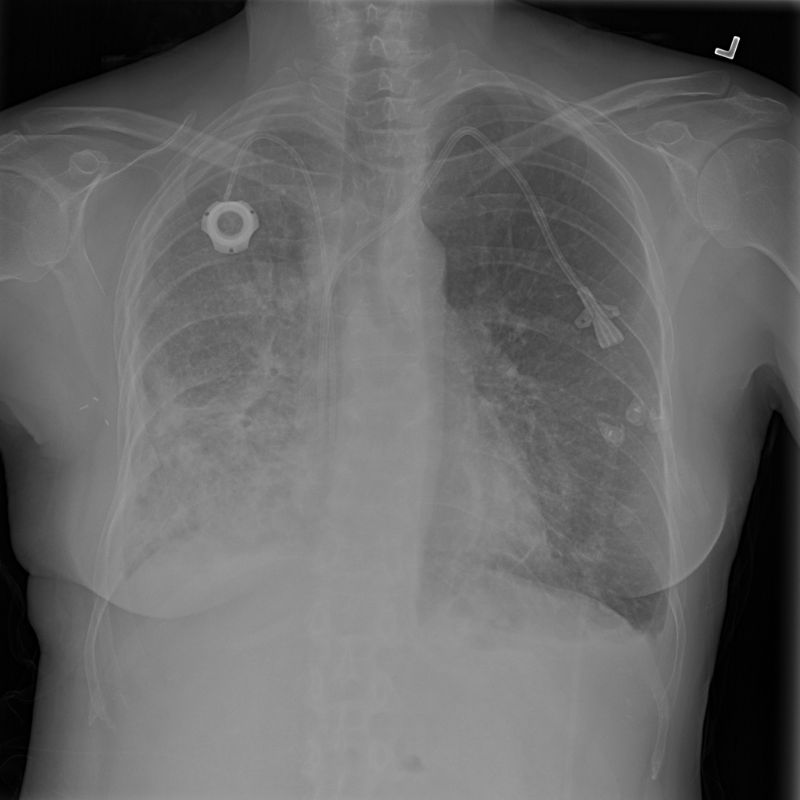Pleural Effusion: (89, 390, 307, 622)
